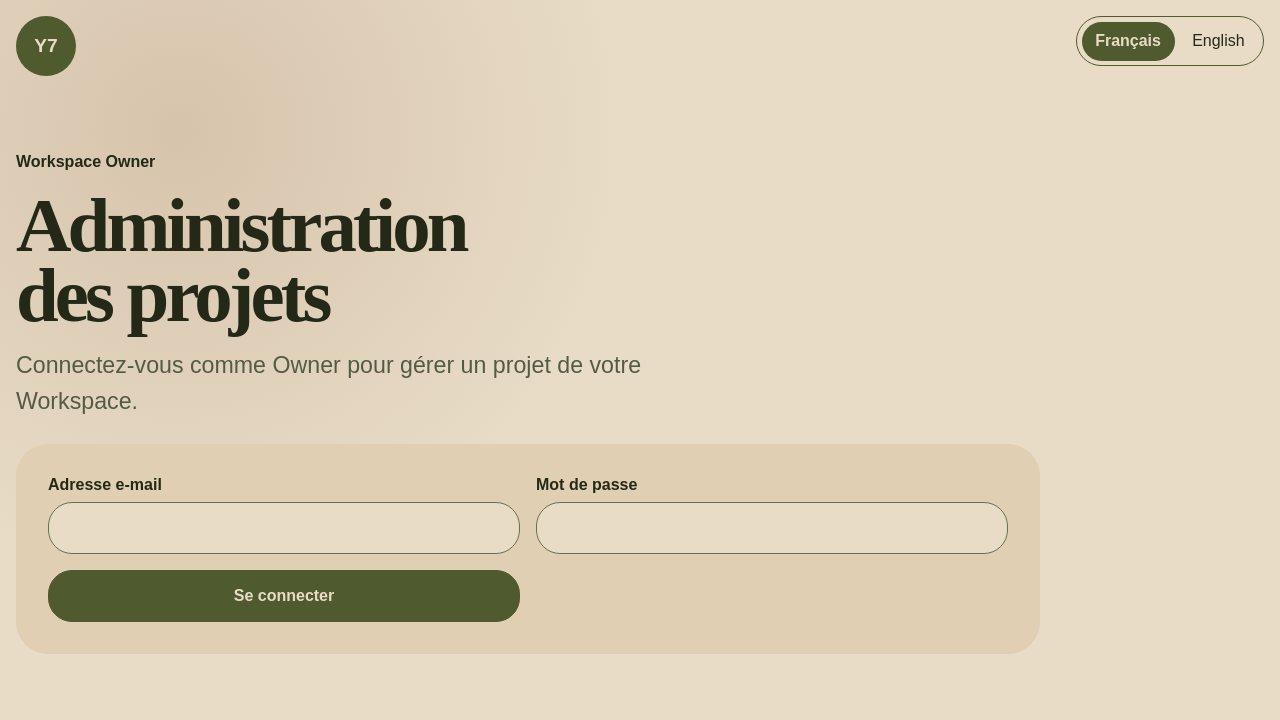
Test: Project administration experience › BDD-ADMIN-002 denies invalid credentials without exposing SDK detail
The image size is (1280, 720).
Type "owner@example.test" into the field labelled "Adresse e-mail".
click(284, 528); type("owner@example.test")  # box [48,502,520,554]
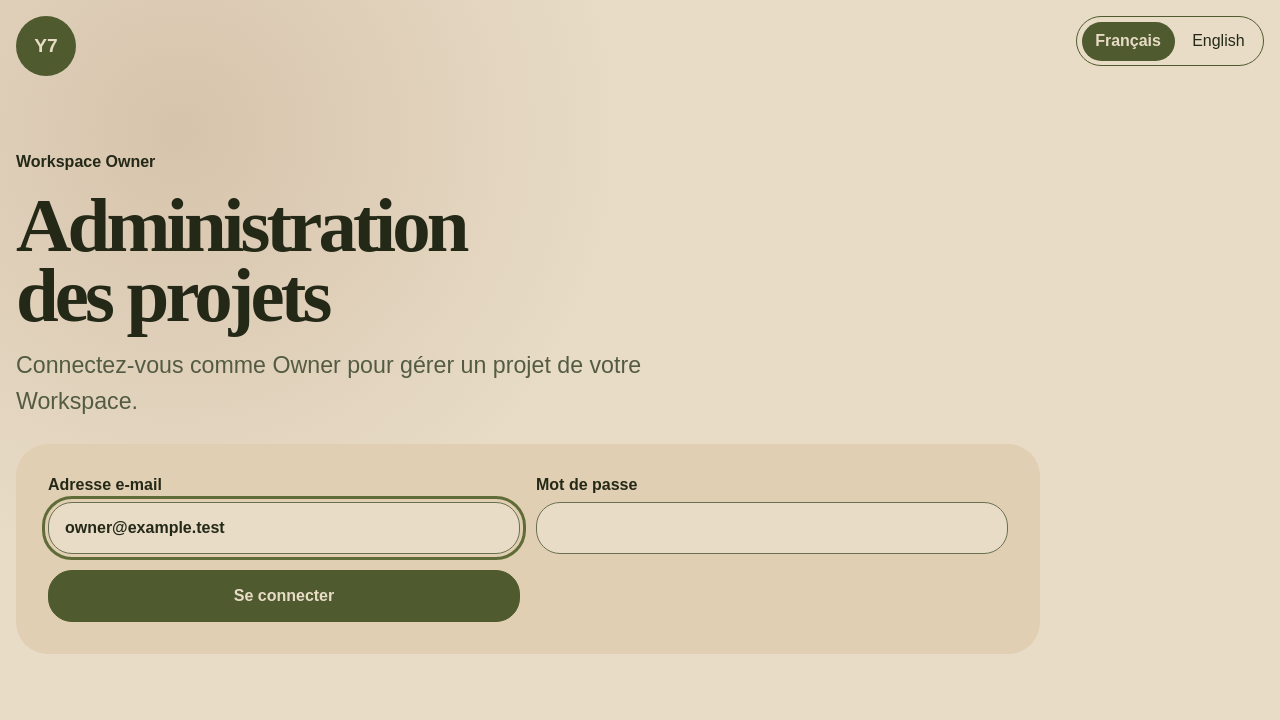
Type "incorrect" into the password field labelled "Mot de passe".
click(772, 528); type("incorrect")  # box [536,502,1008,554]
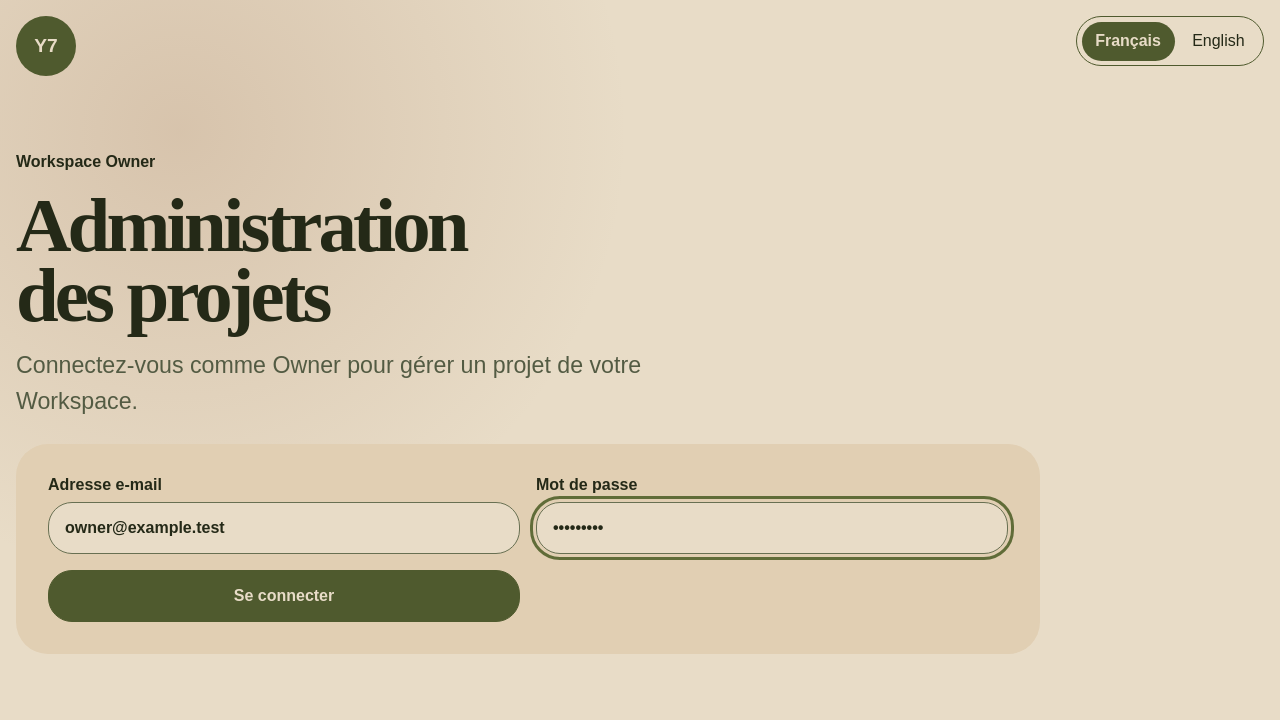
Click the button "Se connecter".
click(284, 596)  # box [48,570,520,622]
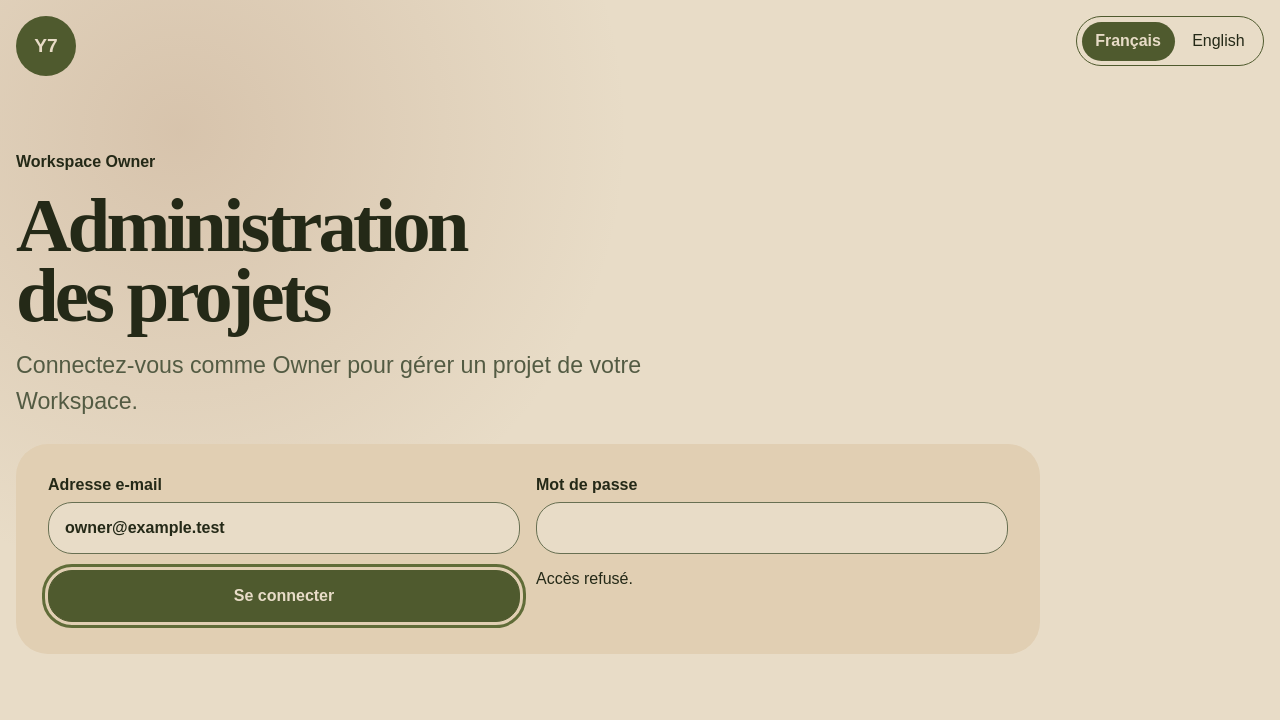
Expected: the message shows "Accès refusé", [536,570,633,587]
Expected: the password field labelled "Mot de passe" is empty, [536,502,1008,554]
